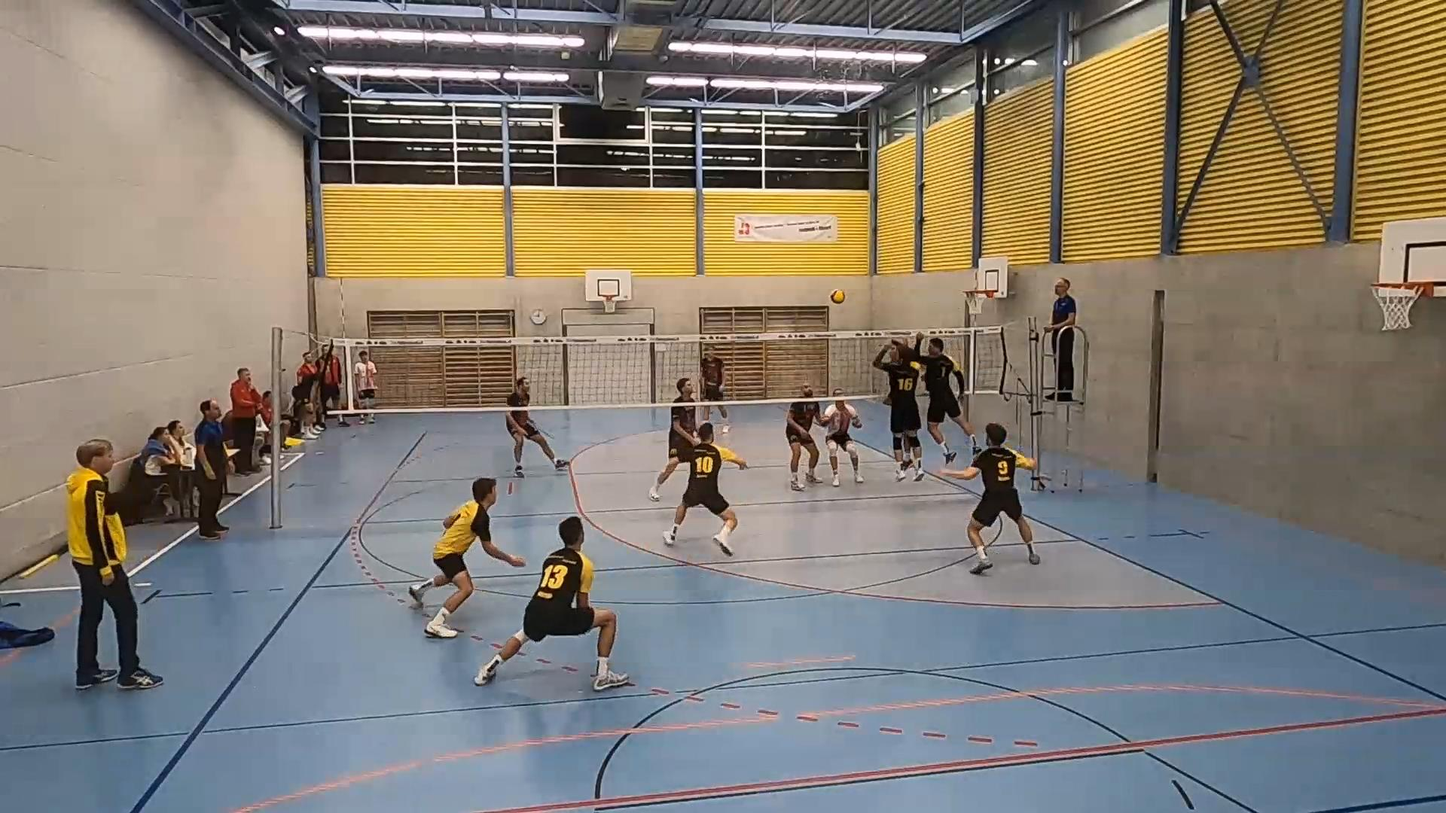Dig: (651, 426, 754, 551)
Player: (474, 516, 627, 690), (408, 477, 525, 638), (939, 423, 1039, 574), (914, 333, 977, 464), (873, 340, 925, 481), (505, 376, 566, 476), (648, 378, 697, 501), (820, 398, 863, 486), (786, 384, 821, 490), (718, 403, 728, 433)
ball: (827, 292, 846, 305)
